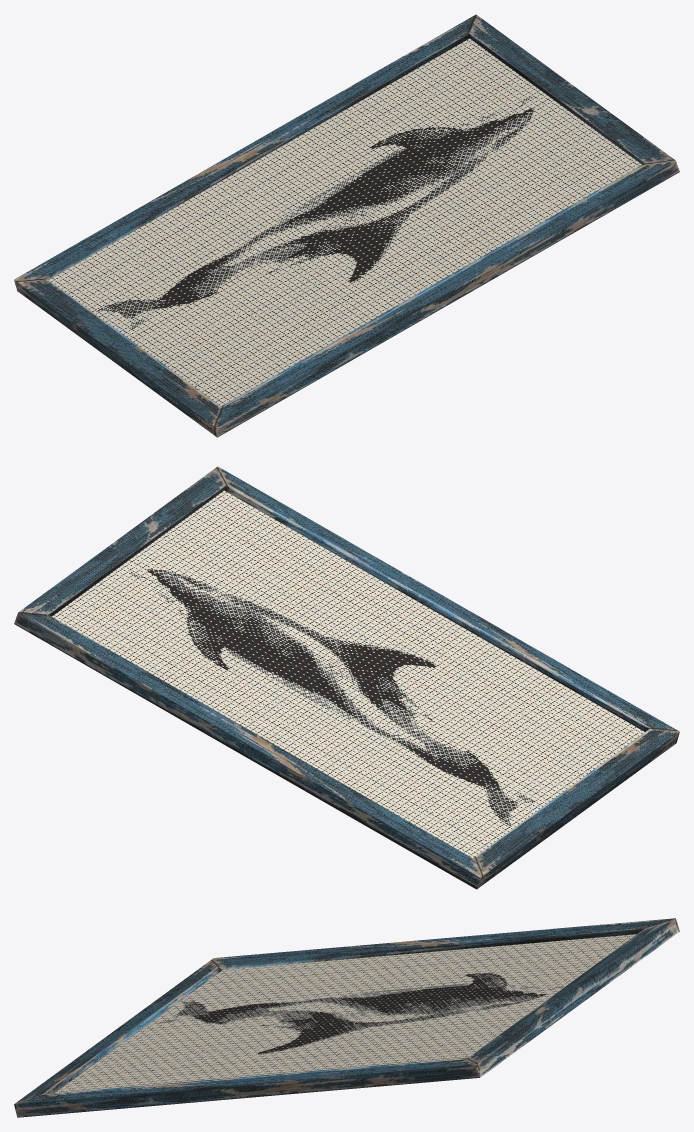
Rendered from cuadro2.glb.
3 renders of one model, top to bottom at view 1: azimuth 30°, elevation 25°; view 2: azimuth 150°, elevation 25°; view 3: azimuth 330°, elevation 25°, orthographic.
Visible parts, largest first — view 1: frame; view 2: frame; view 3: frame.
Boxes of the visible parts, box(x1,y1,x2,y2) form: frame: box(14, 14, 679, 437); frame: box(14, 466, 679, 889); frame: box(14, 918, 679, 1117).
Bounding box in the file's own units: 1.15 × 0.3897 × 0.856.
1 material, 1 textured.
